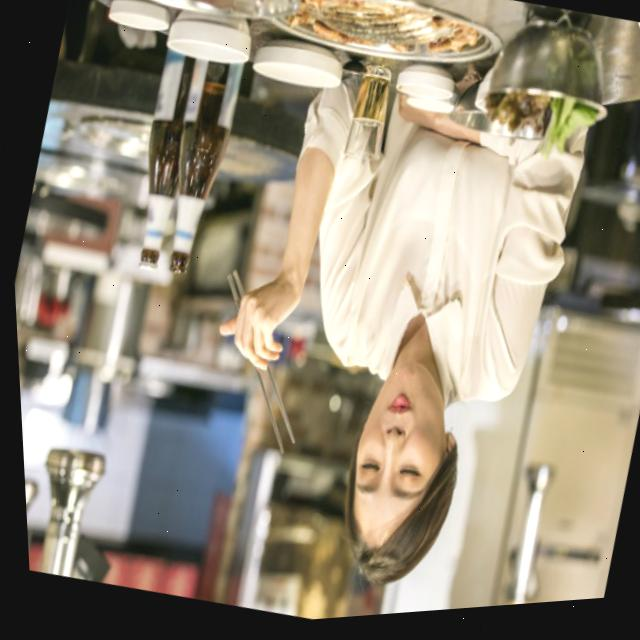eating-person: (128, 6, 640, 633)
